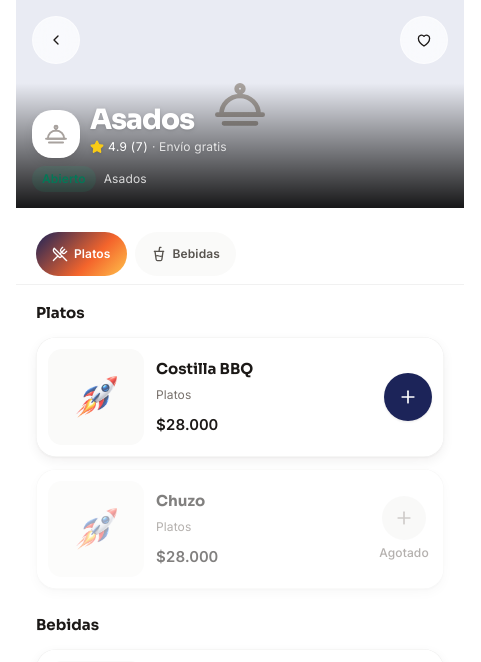
Test: <RestaurantDetailPage /> › "+" agrega directo al carrito con aria-label que incluye el precio
Step 1. Click the button named "Agregar Costilla BBQ al carrito, $28.000" → (408,397), box x1=384 y1=373 x2=432 y2=421
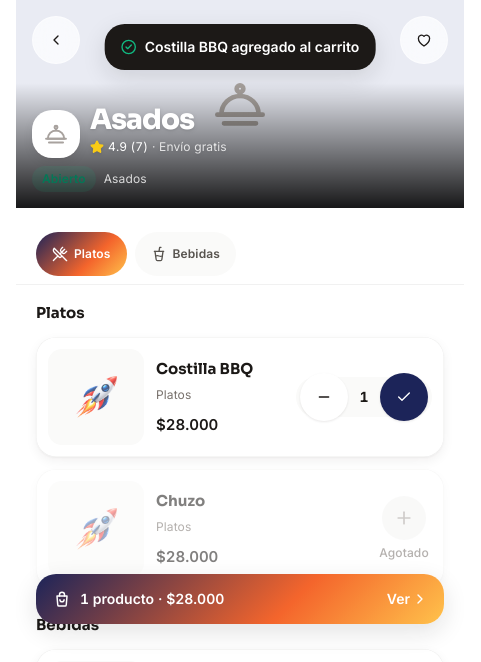
Result: the text "Costilla BBQ agregado al carrito" is shown at x1=145 y1=36 x2=359 y2=58
Result: the button named "Quitar Costilla BBQ del carrito" is shown at x1=300 y1=373 x2=348 y2=421
